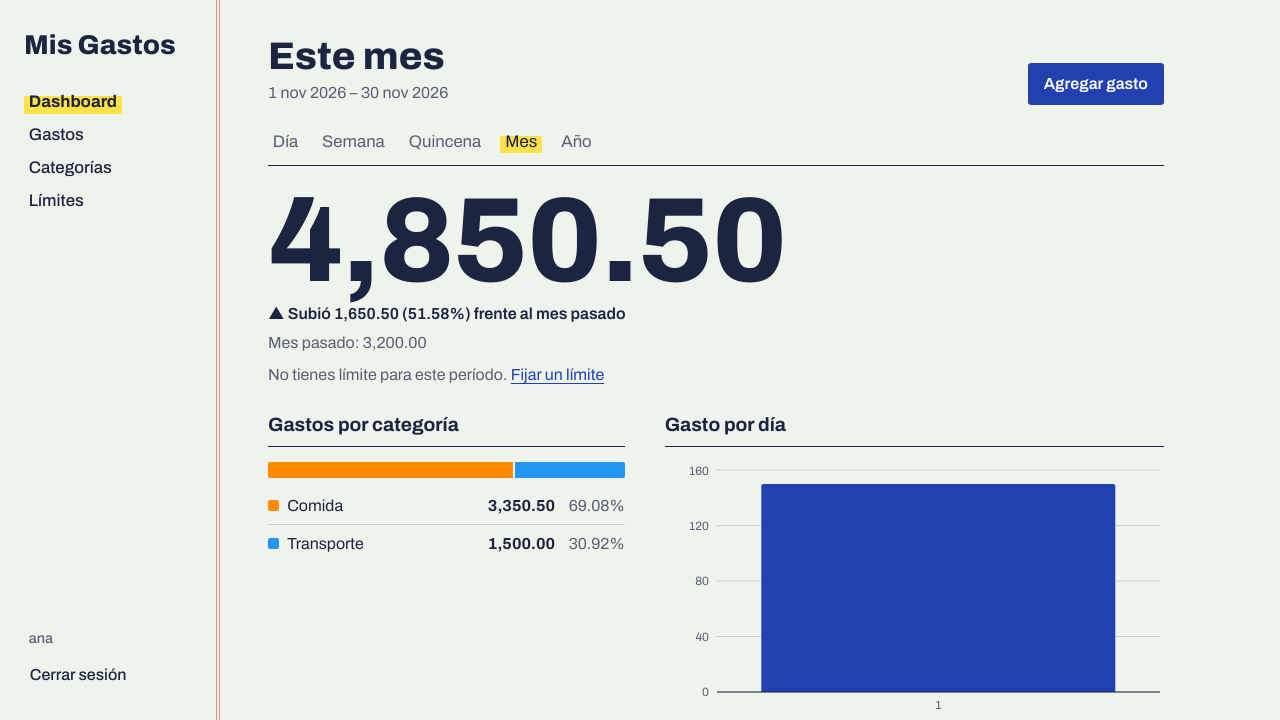
Test case: DashboardPage: tabs and periods › marks the active tab with the highlighter class
Expected: the text "4,850.50" is shown, [268, 176, 786, 306]
Click the tab "Año": (576, 142) [556, 128, 596, 155]
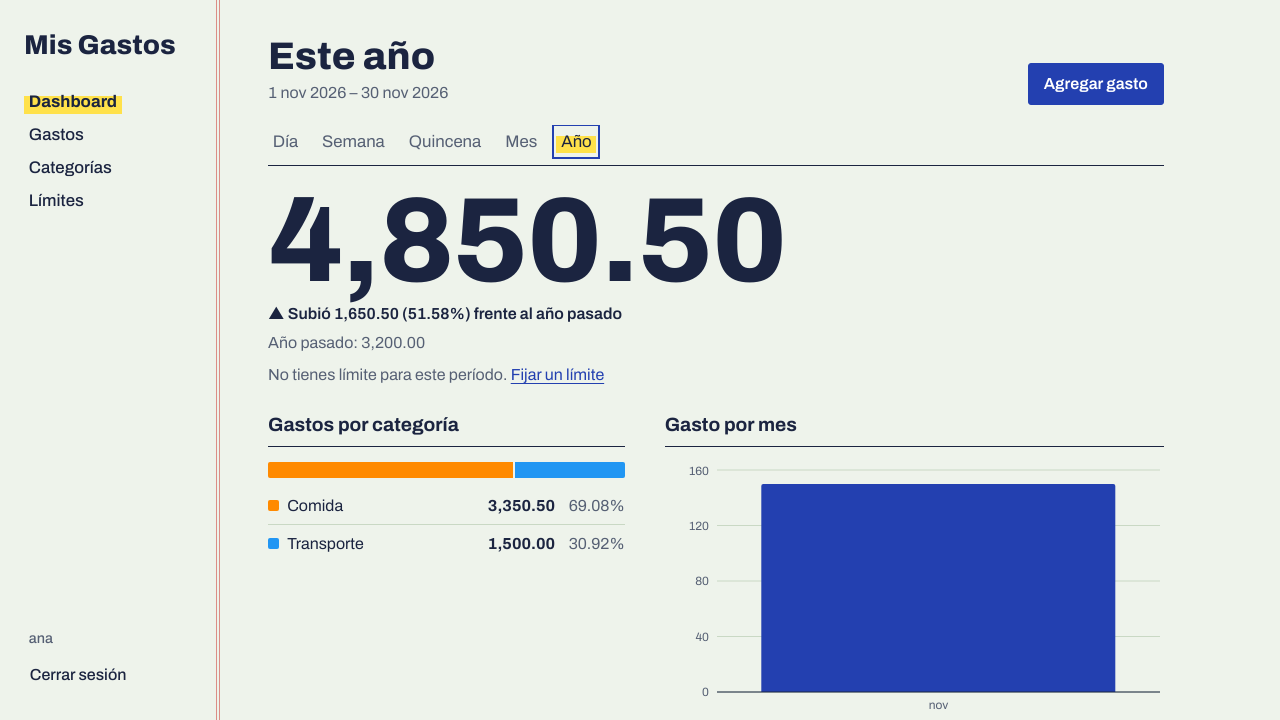
Now the tab "Año" has class "tab-active", box [556, 128, 596, 155]
Now the tab "Mes" does not have class "tab-active", box [500, 128, 542, 155]
